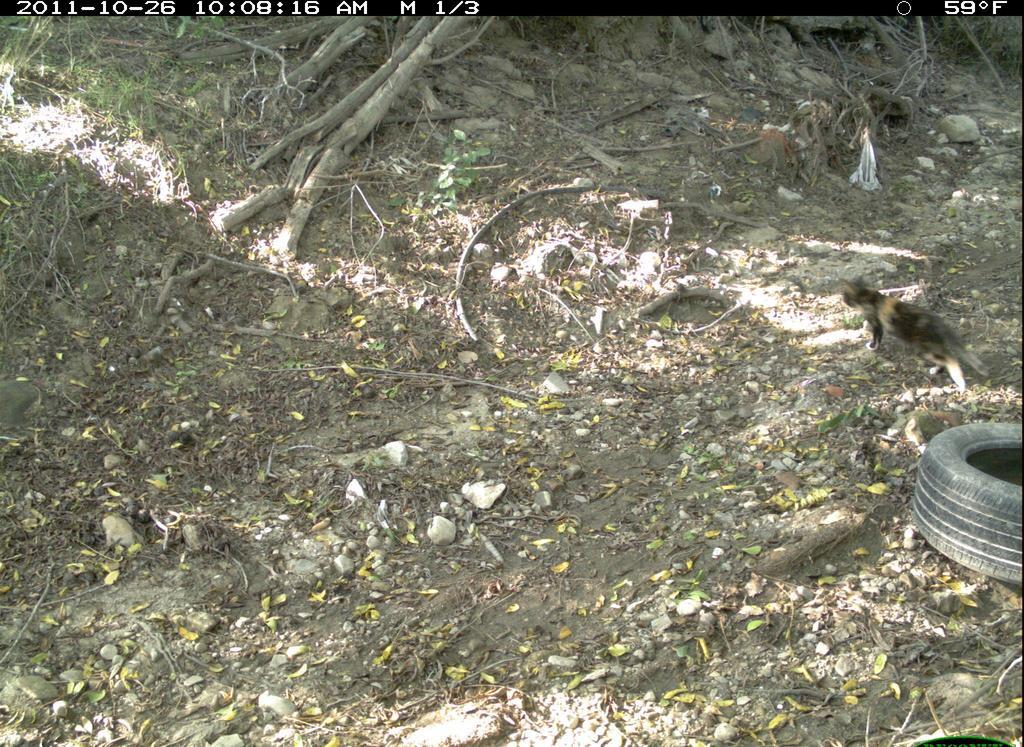cat: (826, 263, 998, 402)
